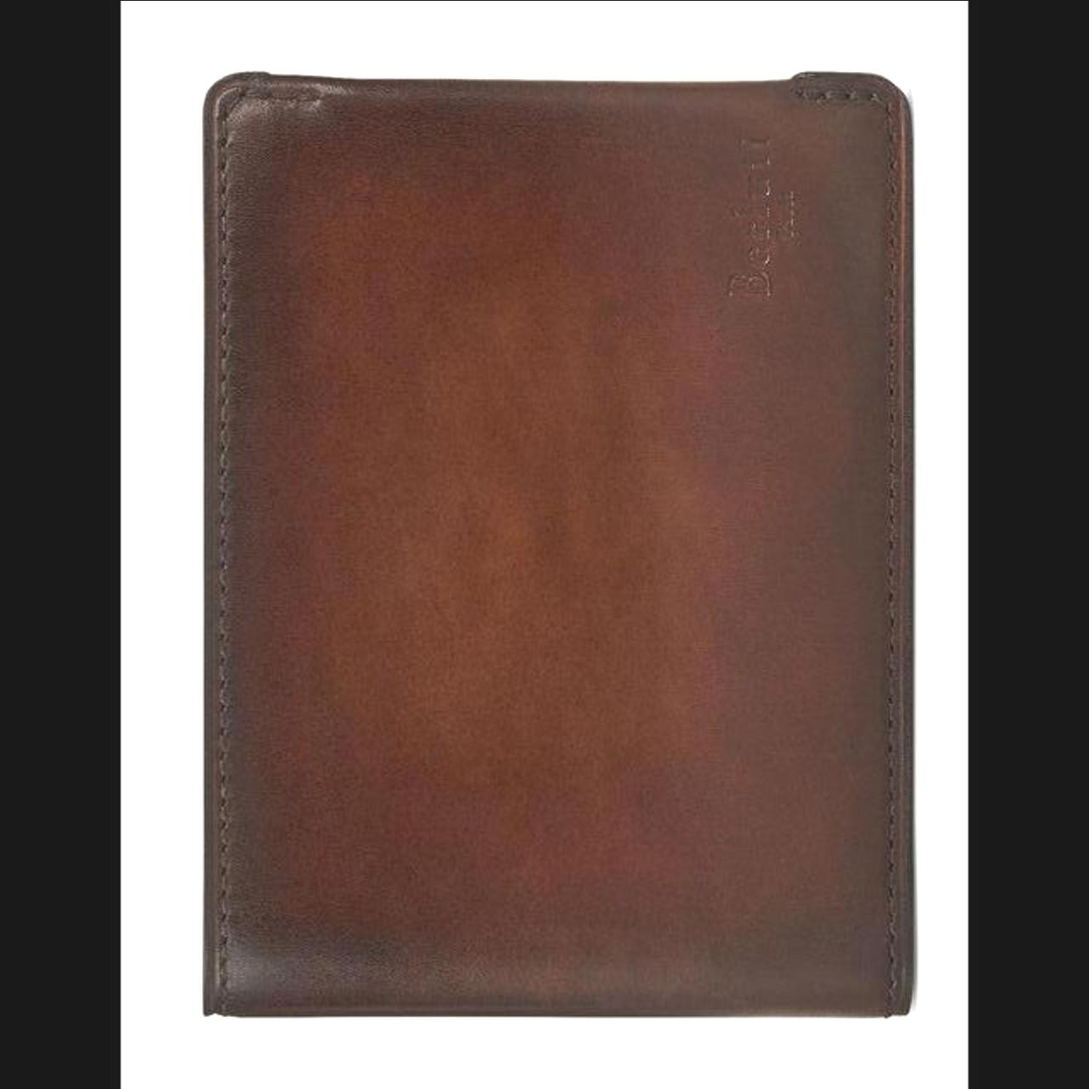wallet: (183, 33, 940, 1063)
